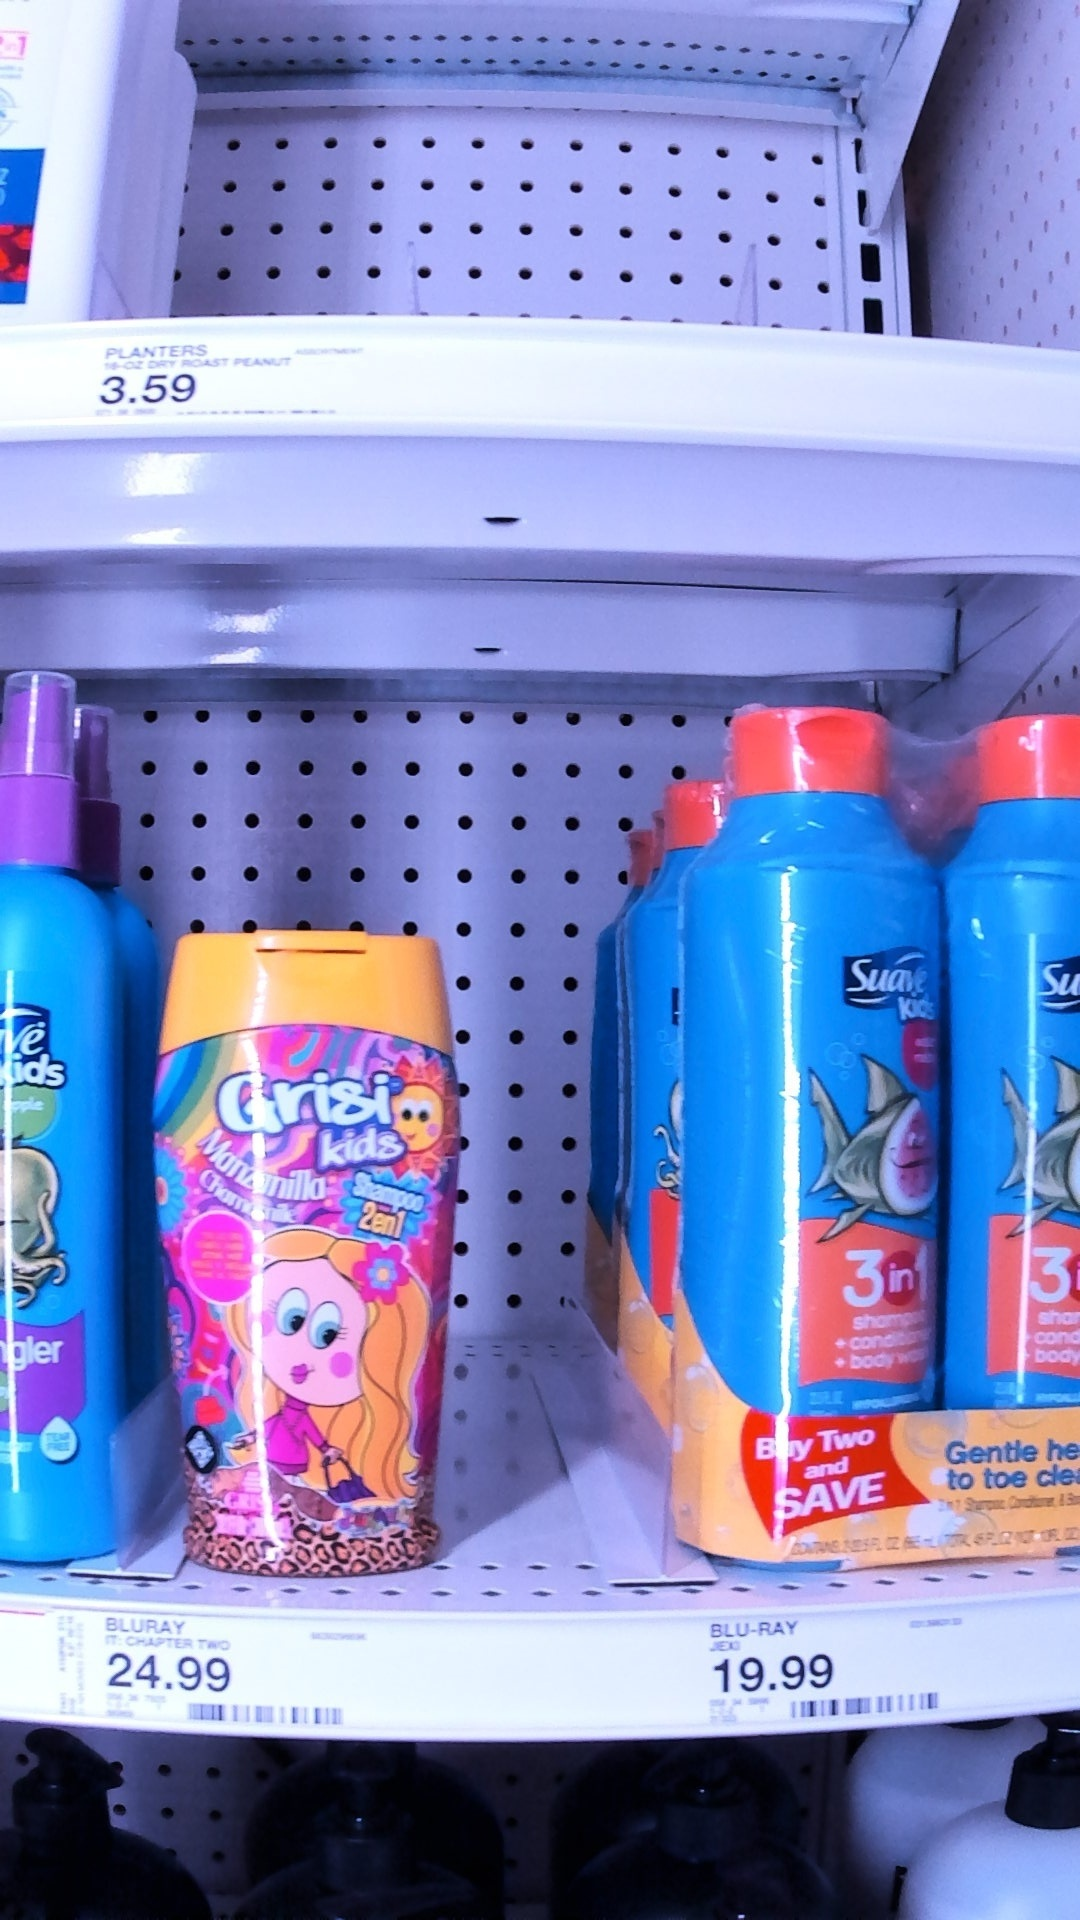ptag: (86, 1606, 384, 1741), (675, 1619, 978, 1742), (84, 313, 369, 435)
